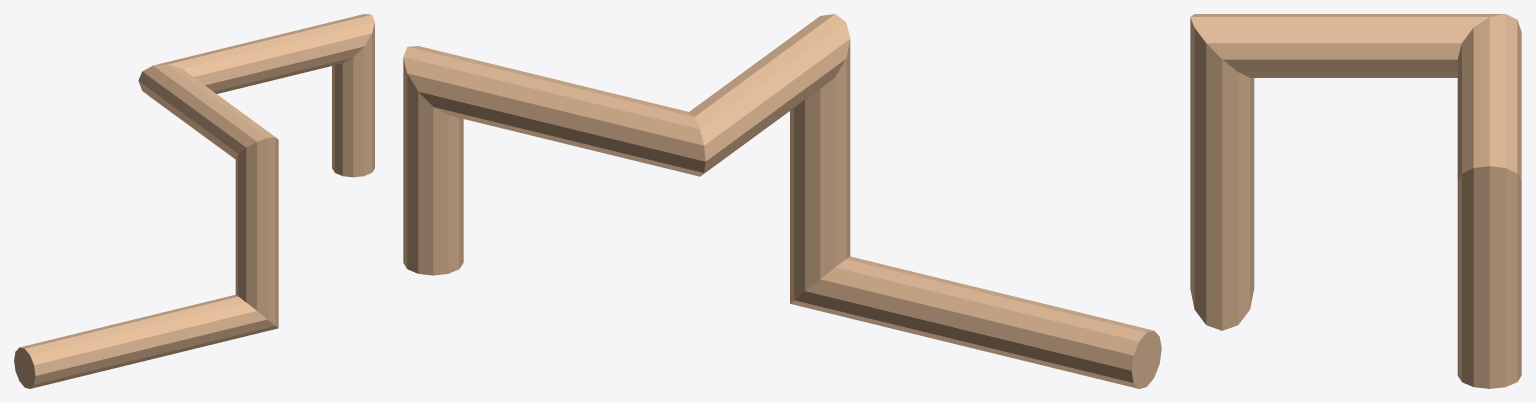
Rendered from example.gltf.
3 views of the same model, side by side, from view 1: azimuth 30°, elevation 25°; view 2: azimuth 150°, elevation 25°; view 3: azimuth 270°, elevation 25° (orthographic). The views are drawn at different scales.
Visible parts, largest first — view 1: mitered_pipe; view 2: mitered_pipe; view 3: mitered_pipe.
Boxes of the visible parts, x1,y1,x2,y2 form: mitered_pipe: [14, 14, 374, 388]; mitered_pipe: [403, 14, 1161, 388]; mitered_pipe: [1190, 14, 1521, 388].
Bounding box in the file's own units: 2.82 × 1.24 × 1.24.
